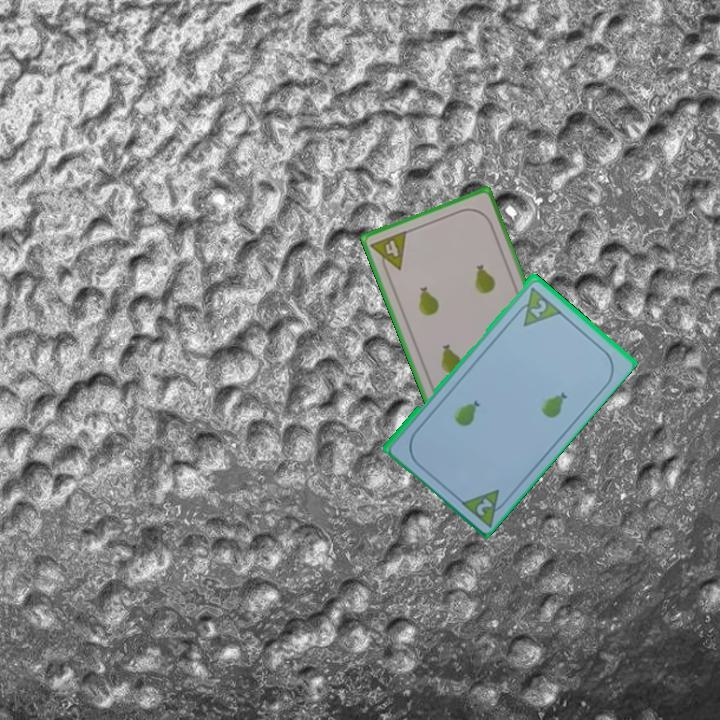2p: (472, 494, 496, 518), (527, 295, 549, 320)
4p: (367, 227, 410, 277)
